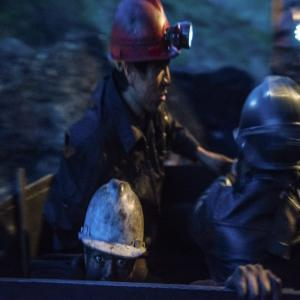red: (108, 4, 177, 113), (234, 76, 300, 183)
white: (79, 181, 147, 281)
